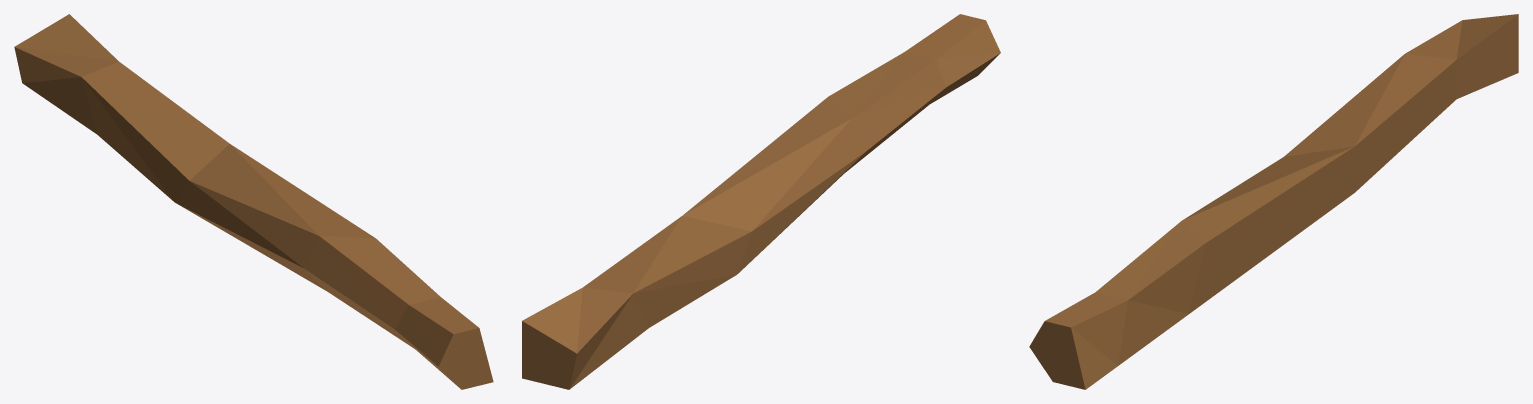
The model's file is Log.fbx.
The picture shows the model from 3 angles, left to right: view 1: azimuth 30°, elevation 25°; view 2: azimuth 150°, elevation 25°; view 3: azimuth 330°, elevation 25°; orthographic projection. The views are drawn at different scales.
Visible parts, largest first — view 1: Stolb_Palatka3_1; view 2: Stolb_Palatka3_1; view 3: Stolb_Palatka3_1.
Boxes of the visible parts, x1=… form: Stolb_Palatka3_1: x1=14, y1=14, x2=493, y2=389; Stolb_Palatka3_1: x1=522, y1=14, x2=1000, y2=389; Stolb_Palatka3_1: x1=1029, y1=14, x2=1518, y2=389.
Bounding box in the file's own units: 150 × 150 × 2000.
